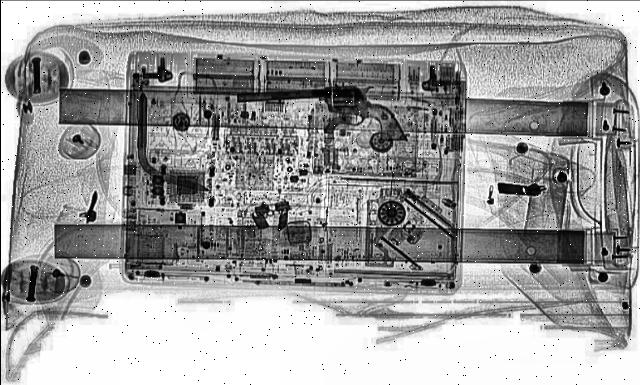Gun: (232, 81, 406, 149)
